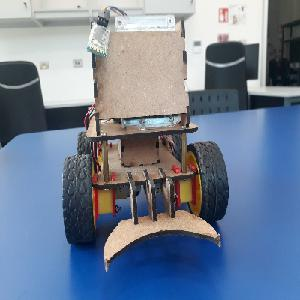Robot: (61, 15, 230, 273)
